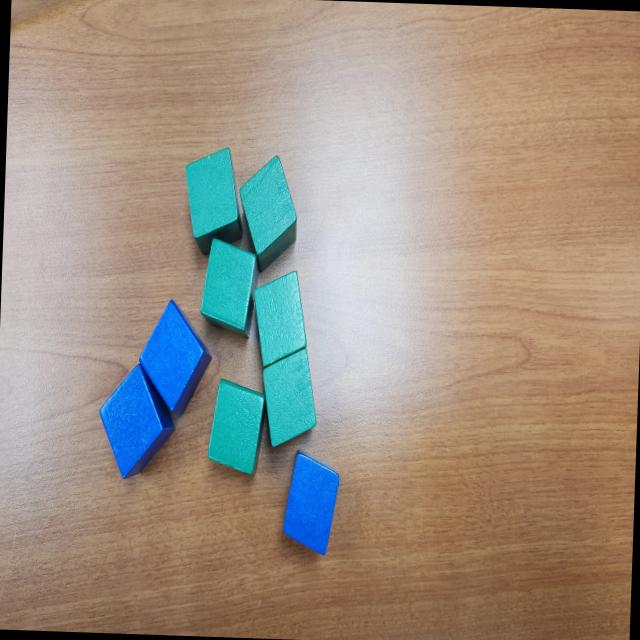blue: (96, 362, 178, 481), (136, 296, 214, 418), (281, 451, 340, 554)
green: (235, 153, 300, 273), (182, 144, 246, 258), (200, 234, 260, 338), (250, 268, 309, 370), (260, 348, 318, 450), (207, 378, 264, 476)
